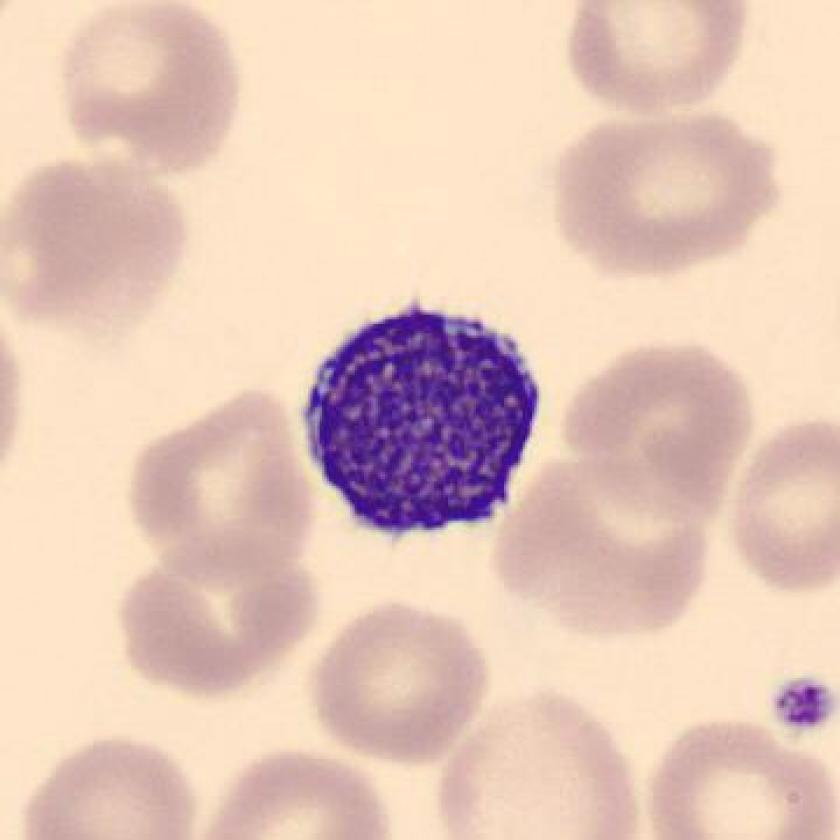lymphocyte: (288, 288, 561, 554)
